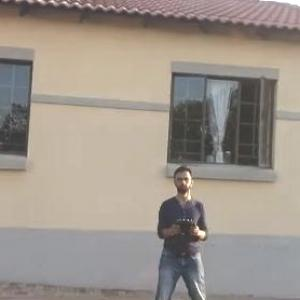follow: (144, 159, 212, 299)
